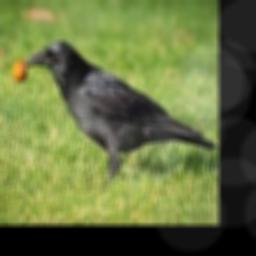Crow: (25, 39, 218, 181)
